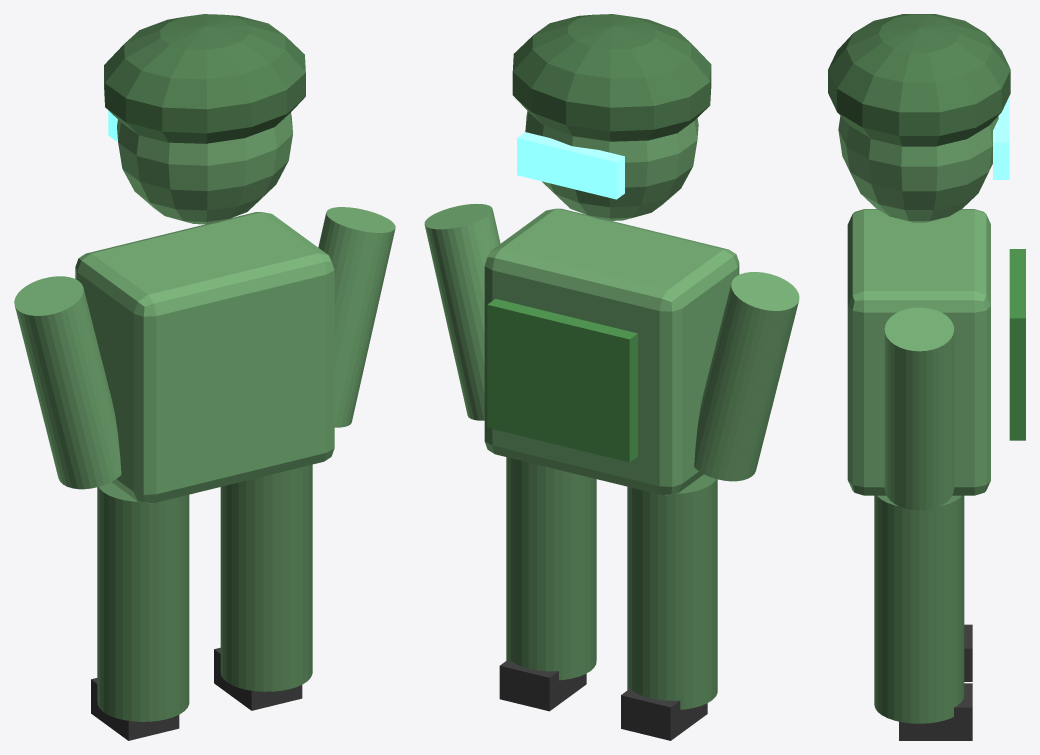
The model's file is player.glb.
The picture shows the model from 3 angles, left to right: view 1: azimuth 30°, elevation 25°; view 2: azimuth 150°, elevation 25°; view 3: azimuth 270°, elevation 25°; orthographic projection. The views are drawn at different scales.
Visible parts, largest first — view 1: Player; view 2: Player; view 3: Player.
Boxes of the visible parts, left/top/right/bottom form: Player: left=14, top=14, right=395, bottom=740; Player: left=424, top=14, right=799, bottom=740; Player: left=828, top=14, right=1025, bottom=740.
Bounding box in the file's own units: 1.03 × 1.81 × 0.4831.
